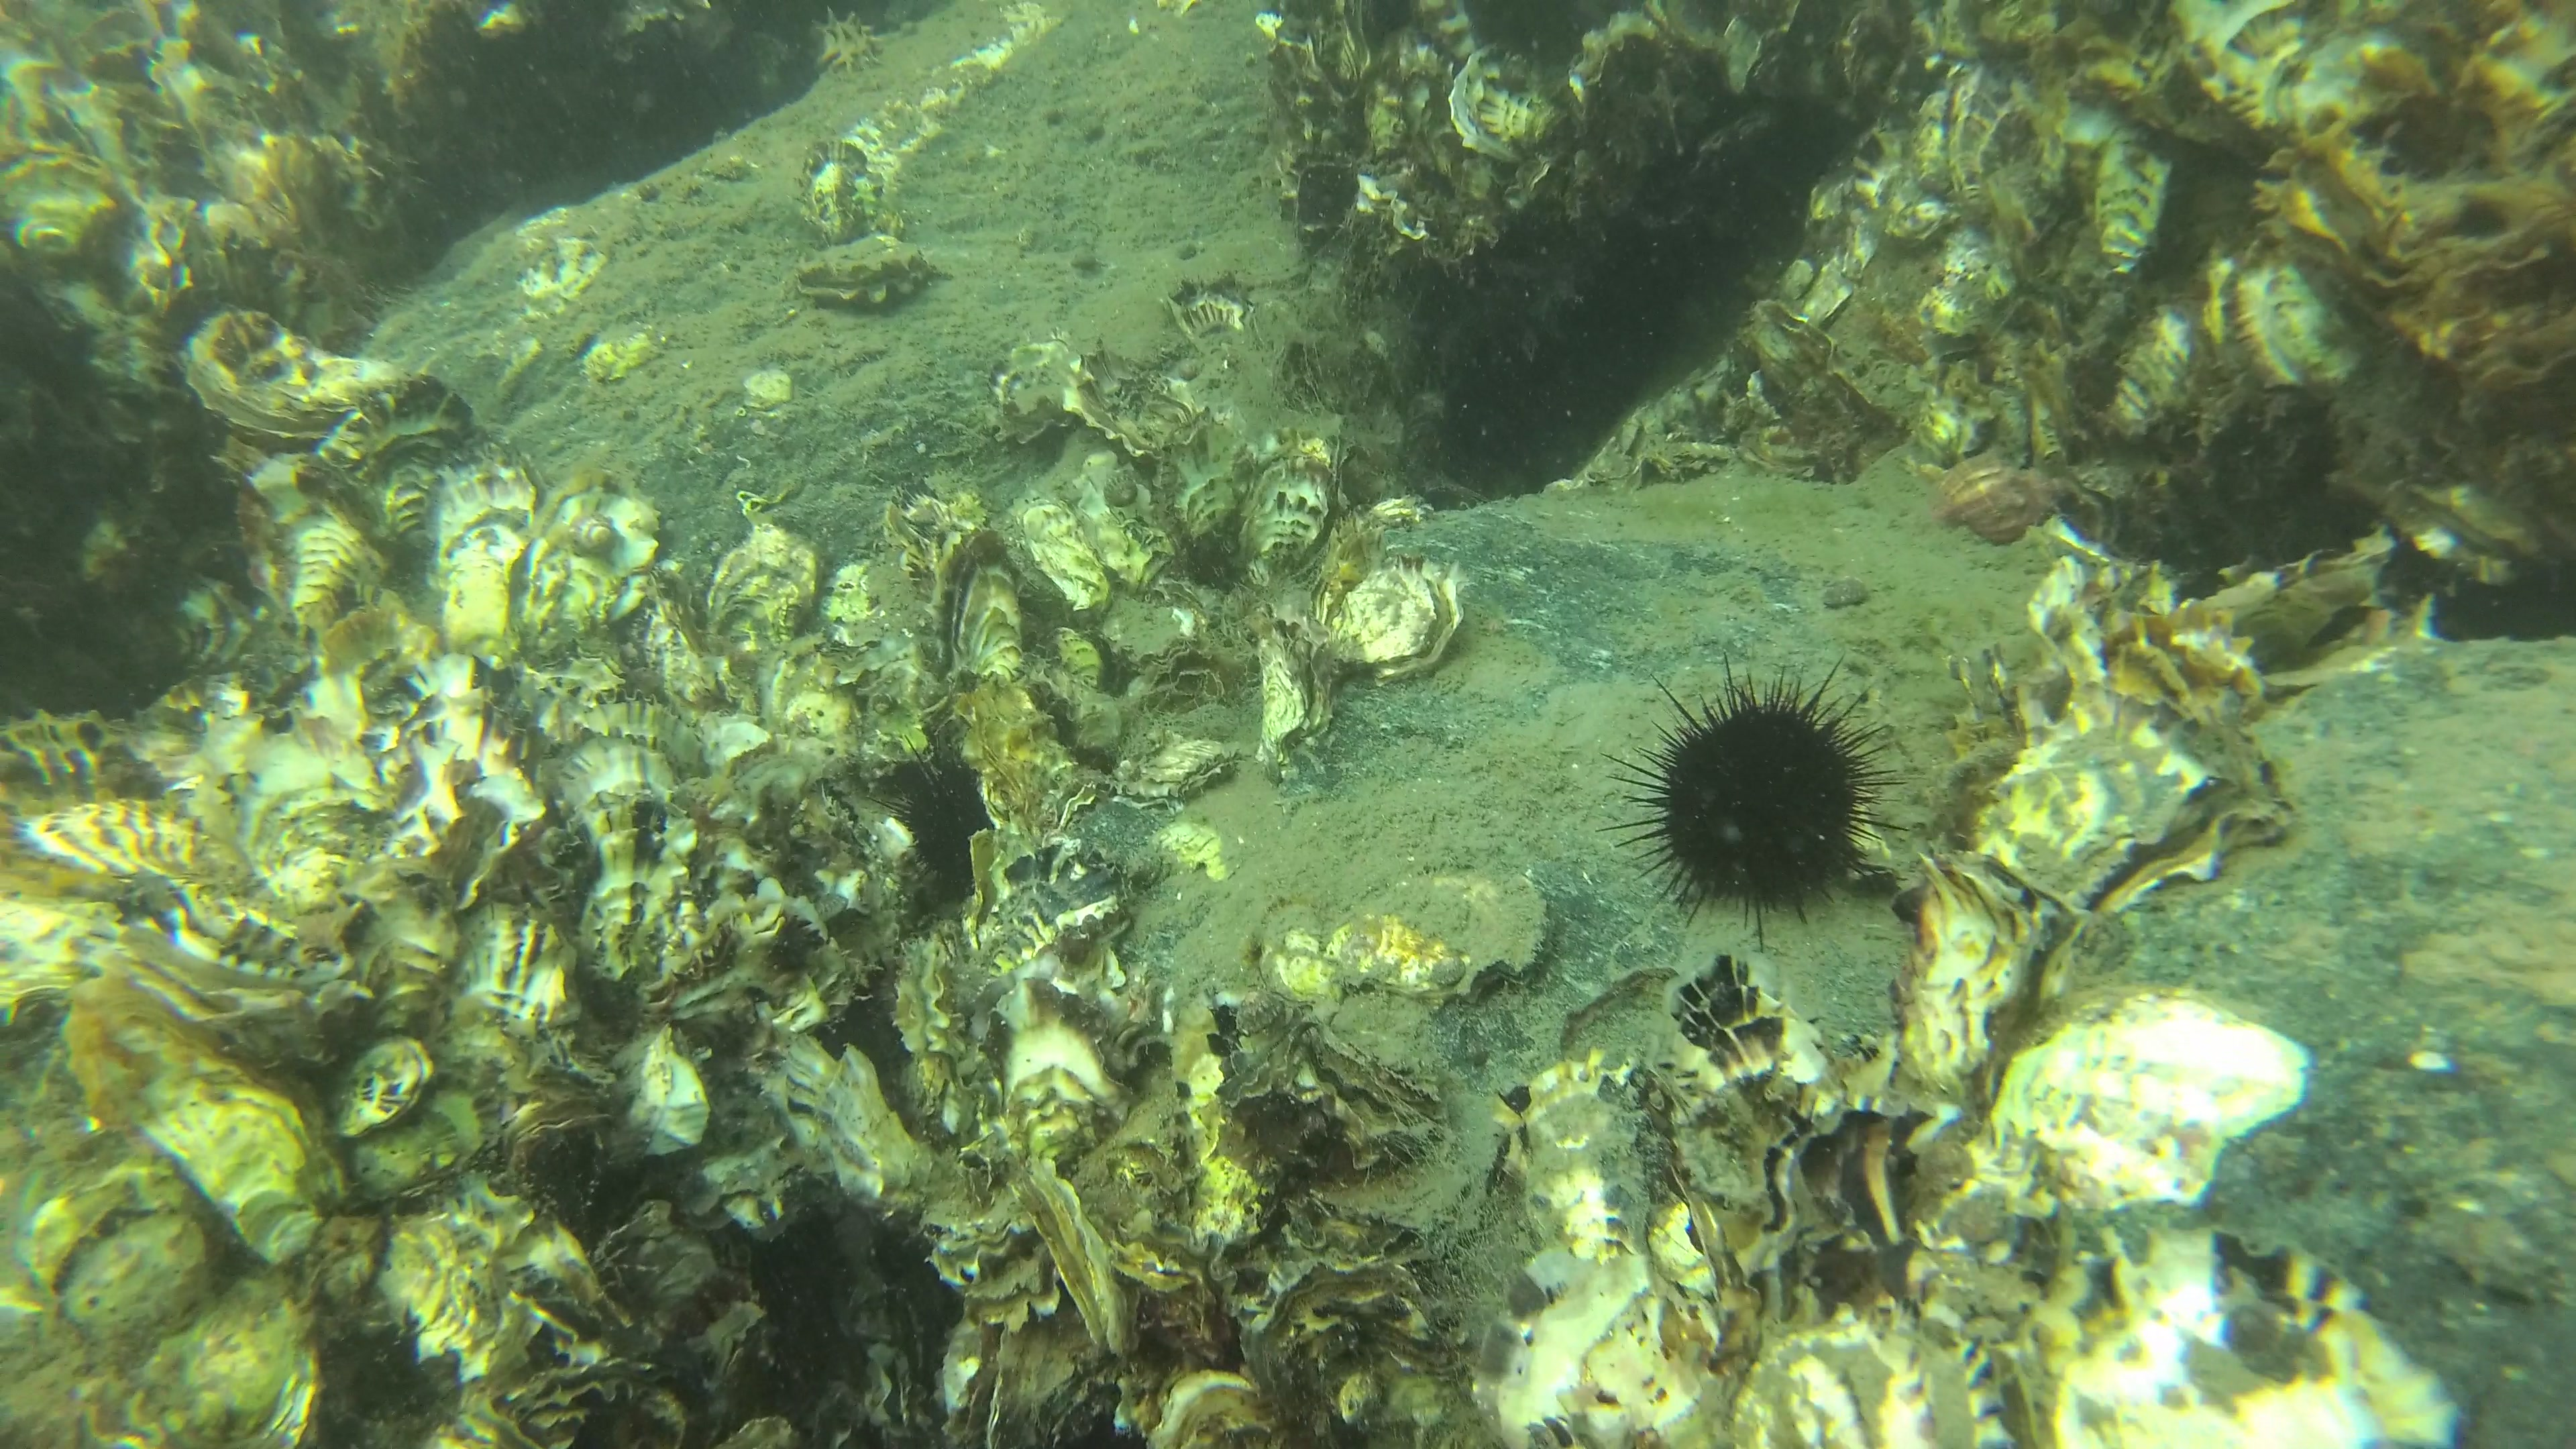echinus: (1606, 655, 1909, 947), (876, 732, 998, 901)
